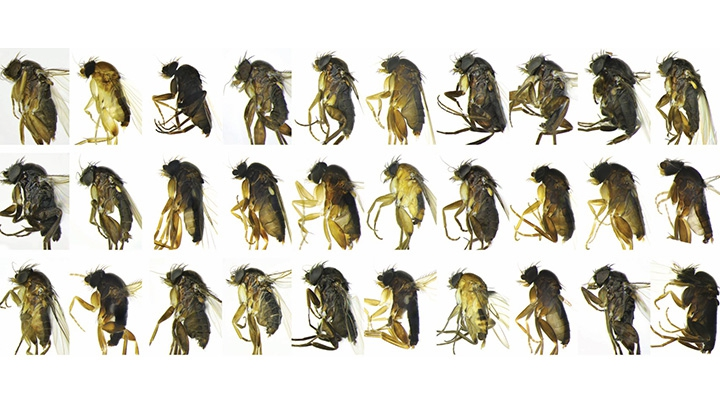phorid fly: (145, 257, 222, 365), (69, 258, 144, 365), (579, 261, 652, 370), (578, 49, 652, 153), (362, 261, 439, 360), (222, 153, 295, 256), (365, 159, 440, 258), (1, 258, 69, 367), (223, 257, 294, 361), (652, 255, 720, 363), (293, 259, 363, 363), (148, 153, 218, 256), (441, 261, 511, 364), (72, 153, 143, 254), (367, 52, 437, 152), (225, 52, 297, 149), (294, 158, 364, 256), (442, 157, 509, 258), (511, 261, 576, 365), (580, 157, 651, 252), (653, 48, 717, 153), (510, 54, 577, 153), (443, 53, 509, 152), (1, 52, 72, 144), (510, 157, 578, 253), (1, 153, 68, 249), (77, 51, 144, 146), (653, 156, 720, 249), (153, 52, 216, 149), (305, 52, 363, 153)
